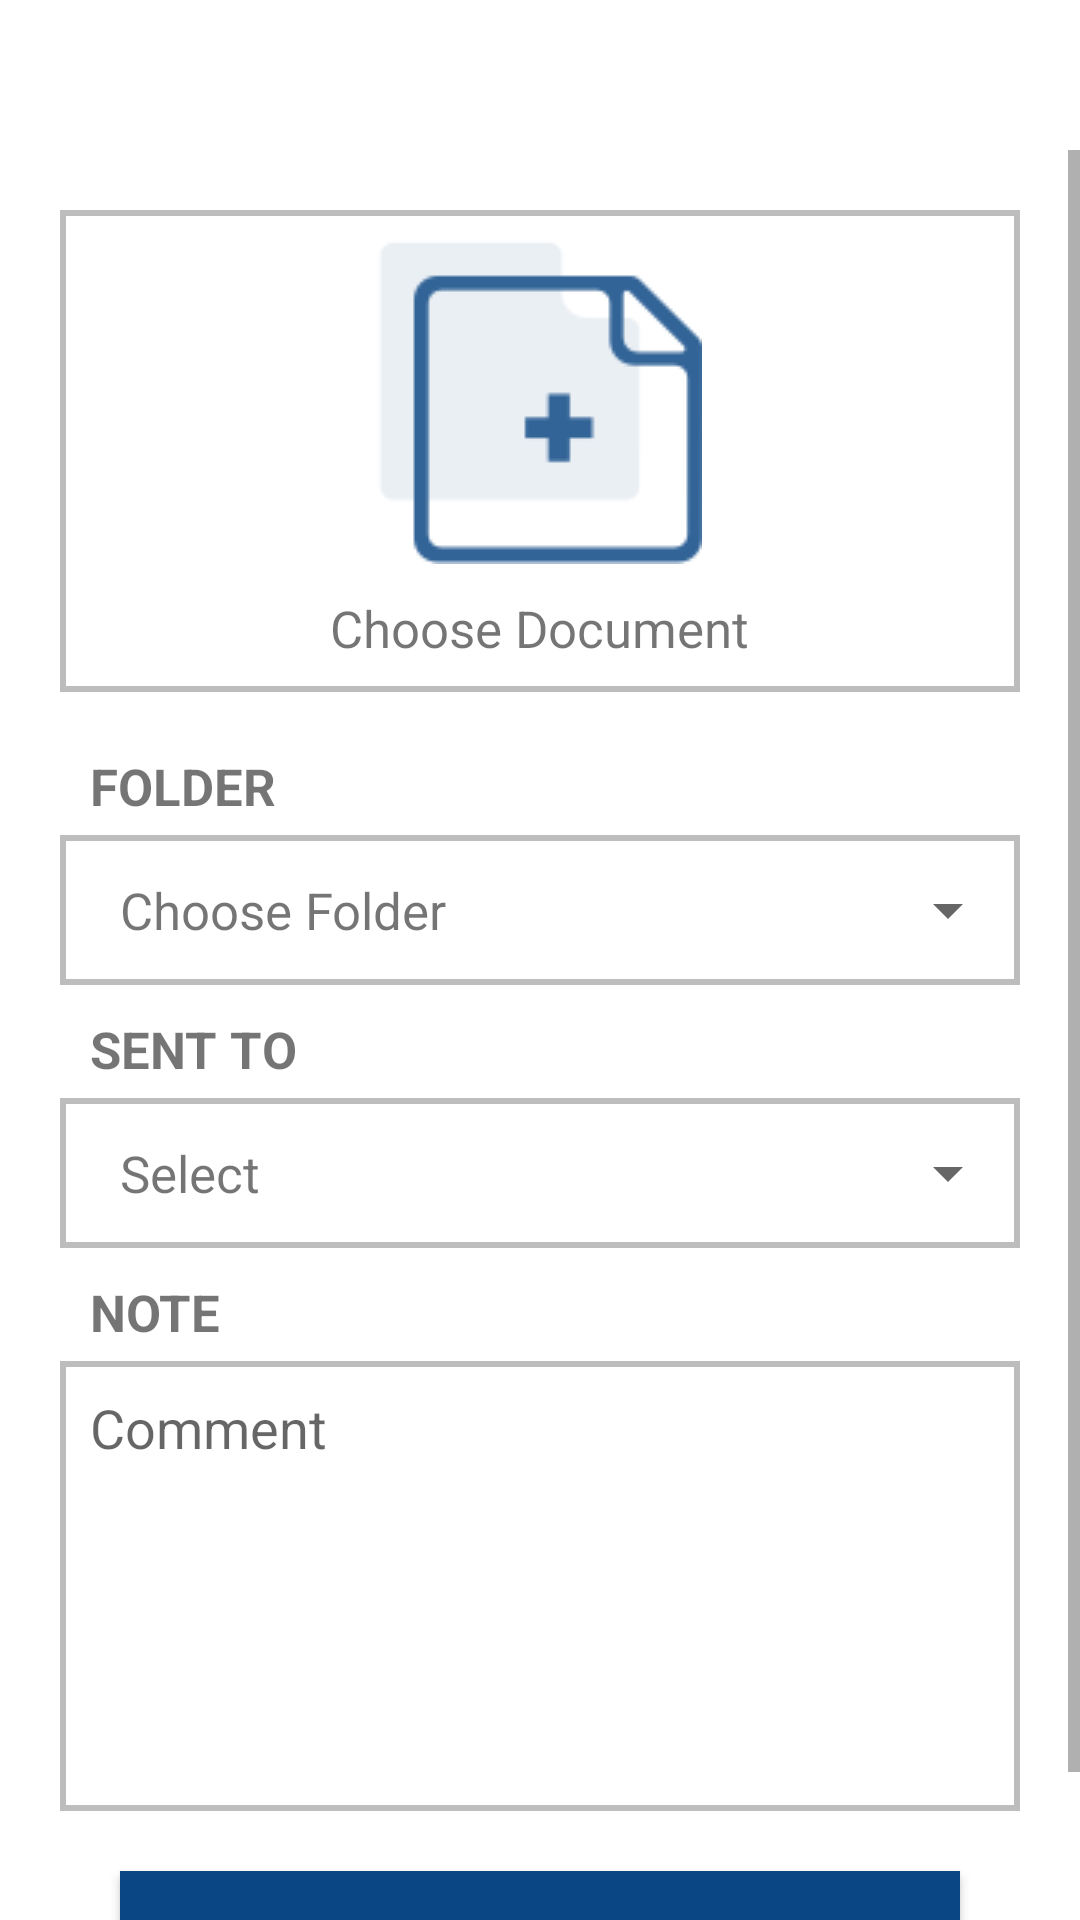

Where to tap for icons on this 1080*1920 app screen, as (x,y):
add: (541,403)
